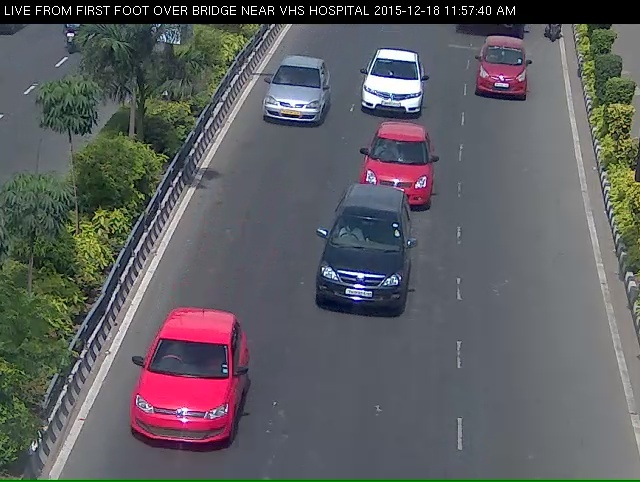Car: (136, 325, 230, 462), (323, 202, 401, 329), (355, 128, 442, 212), (356, 50, 431, 117), (252, 60, 321, 130), (475, 33, 527, 111)
